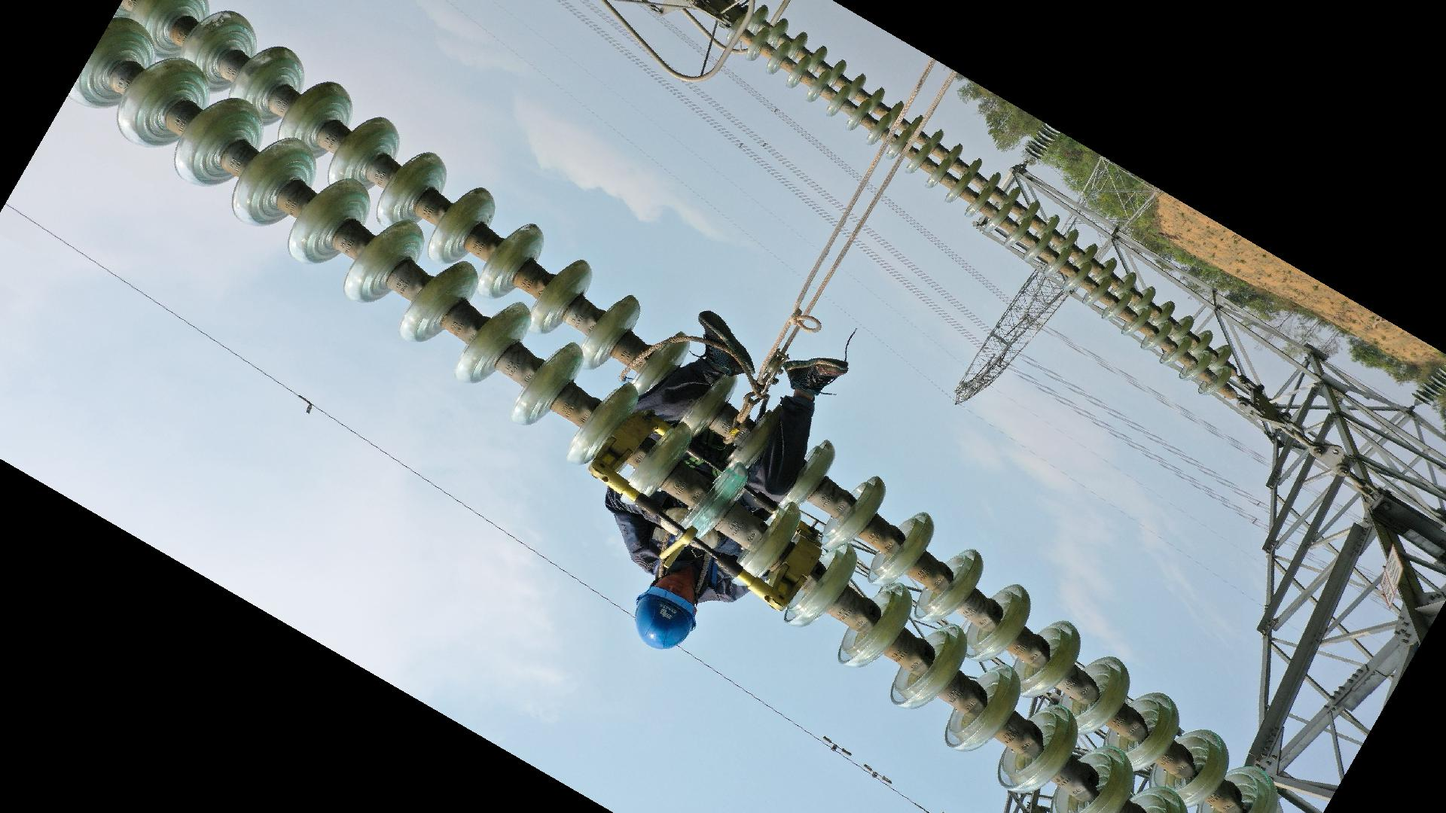insulator: (62, 1, 1286, 813), (721, 1, 1237, 403)
